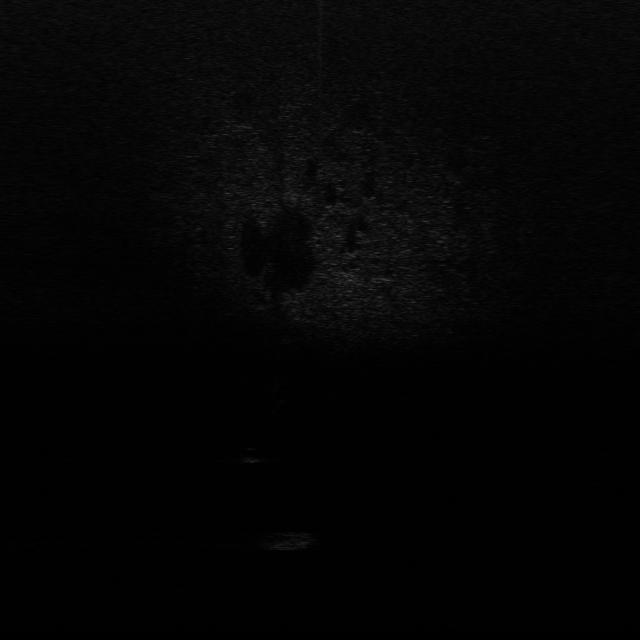ball: (243, 444, 273, 466)
circle cage: (252, 528, 319, 553)
human body: (270, 373, 290, 418)
